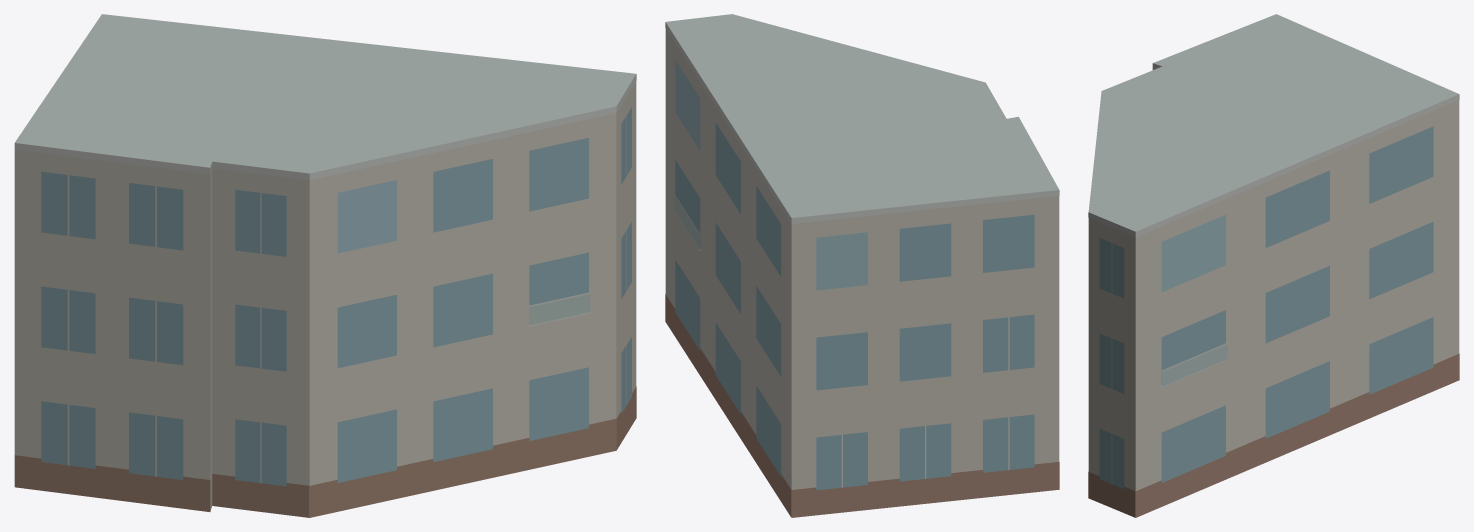
The model's file is survey-upis-32659066.glb.
3 renders of one model, left to right at view 1: azimuth 30°, elevation 25°; view 2: azimuth 150°, elevation 25°; view 3: azimuth 270°, elevation 25°, orthographic. The views are drawn at different scales.
Visible parts, largest first — view 1: survey-upis-32659066.tmp; view 2: survey-upis-32659066.tmp; view 3: survey-upis-32659066.tmp.
Boxes of the visible parts, bbox=[...] form: survey-upis-32659066.tmp: bbox=[14, 14, 636, 517]; survey-upis-32659066.tmp: bbox=[665, 14, 1059, 517]; survey-upis-32659066.tmp: bbox=[1088, 14, 1459, 517].
Size of the model in its own units: 20.42 by 12.5 by 14.7.
